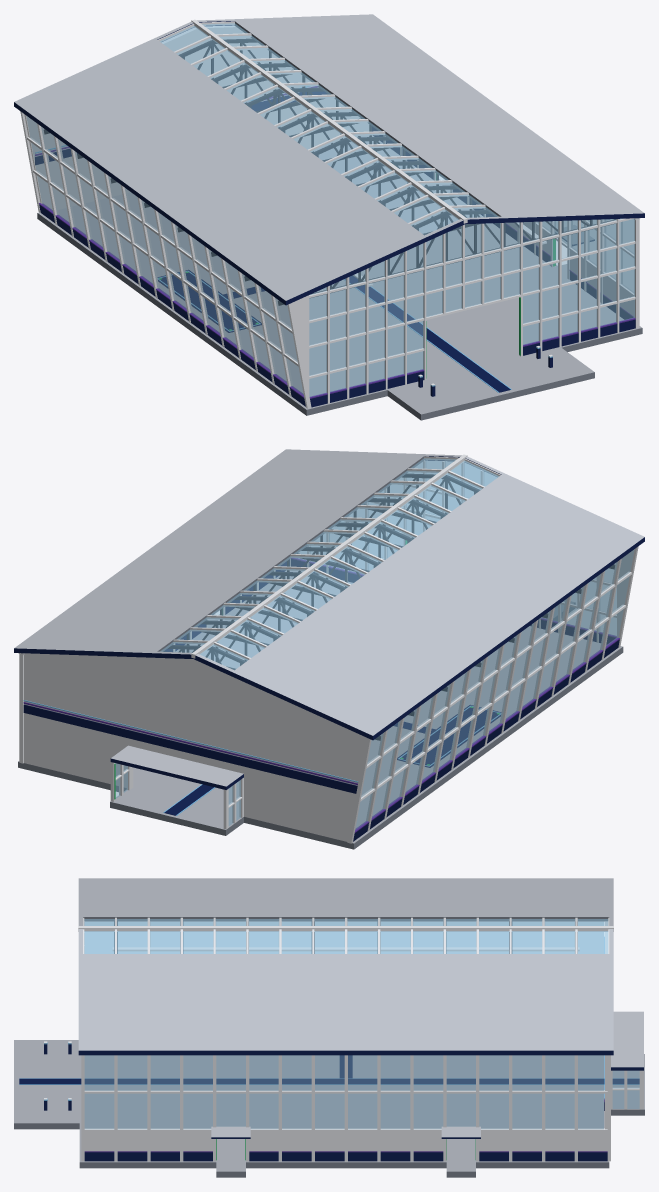
The model's file is LLASO_Facility.obj.
3 views of the same model, one above another, from view 1: azimuth 30°, elevation 25°; view 2: azimuth 150°, elevation 25°; view 3: azimuth 270°, elevation 25° (orthographic).
Parts seen in each view (by area): view 1: LLASO_Facility; view 2: LLASO_Facility; view 3: LLASO_Facility.
Boxes of the visible parts, box(x1,y1,x2,y2) form: LLASO_Facility: box(14, 14, 644, 420); LLASO_Facility: box(14, 449, 644, 849); LLASO_Facility: box(14, 878, 644, 1177).
Bounding box in the file's own units: 39 × 15.7 × 57.55.
